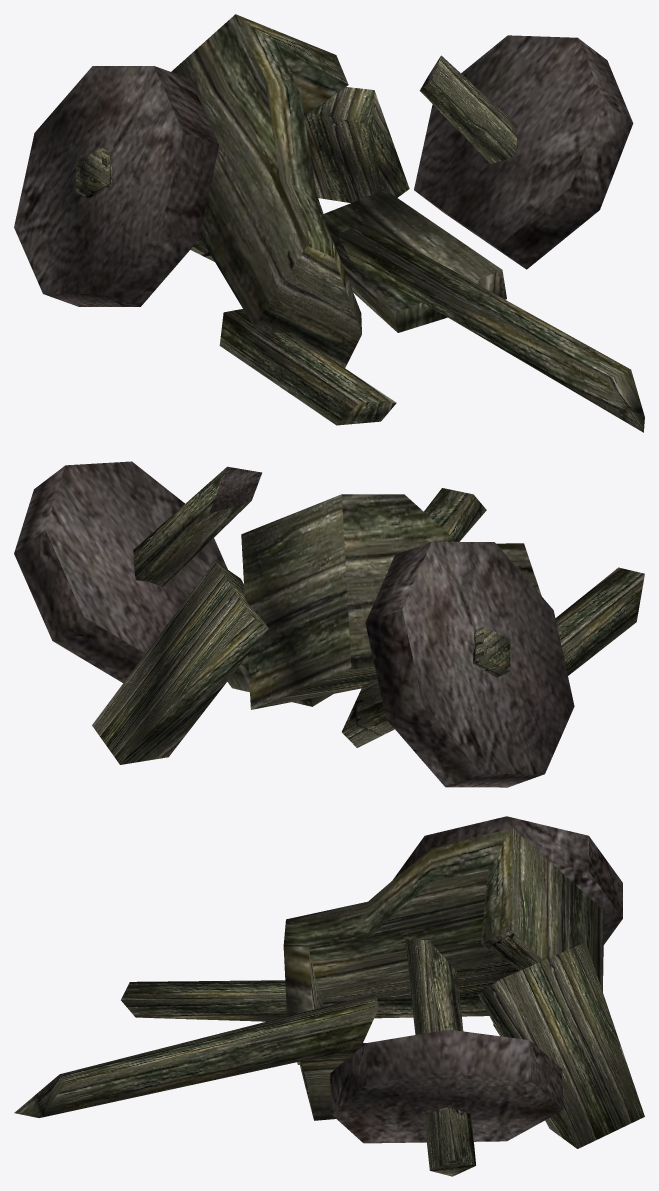
Rendered from ORC_BROKENCART.glb.
3 views of the same model, one above another, from view 1: azimuth 30°, elevation 25°; view 2: azimuth 150°, elevation 25°; view 3: azimuth 270°, elevation 25° (orthographic). The views are drawn at different scales.
Visible parts, largest first — view 1: Mesh; view 2: Mesh; view 3: Mesh.
Part boxes in pixels (left/top/right/bottom): Mesh: left=14, top=14, right=644, bottom=432; Mesh: left=14, top=461, right=644, bottom=787; Mesh: left=14, top=816, right=644, bottom=1176.
Bounding box in the file's own units: 4.82 × 2.3 × 5.45.
2 materials, 2 textured.
